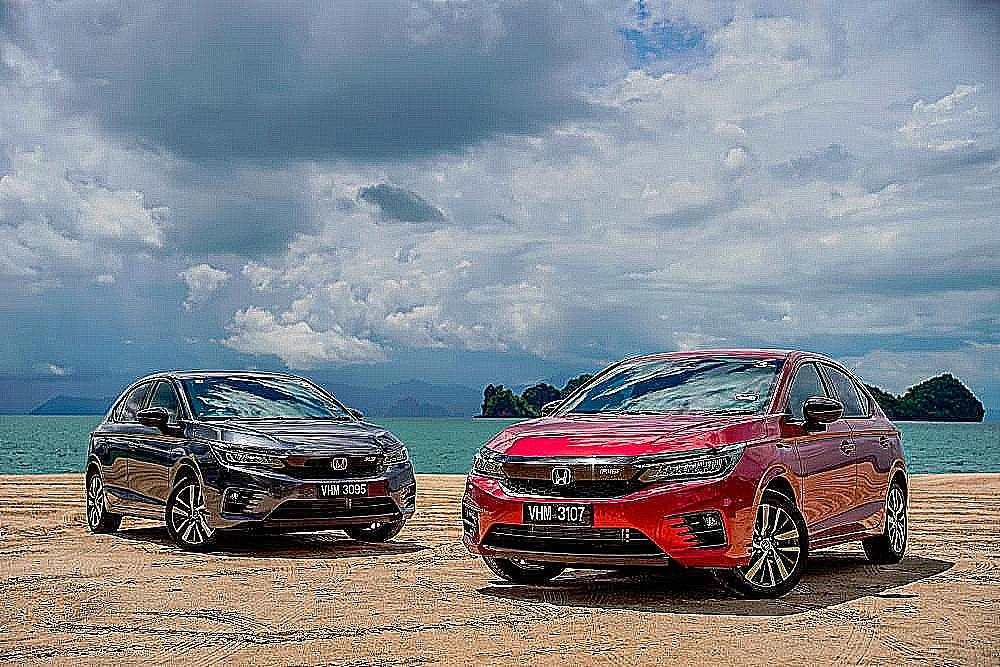Car hood: (484, 415, 770, 461)
Driver-s door - -F-R-: (124, 373, 186, 512)
Fender - -F-L-: (727, 408, 805, 518)
Fender - -F-R-: (167, 412, 217, 499)
Fender - -R-L-: (883, 416, 909, 486)
Fender - -R-R-: (85, 411, 118, 472)
Front bumper: (461, 528, 757, 571), (205, 491, 421, 535)
Headlight - -L-: (194, 419, 396, 455), (633, 441, 747, 492), (381, 445, 410, 471)
Headlight - -R-: (208, 442, 287, 475), (471, 445, 508, 480)
Passenger-s door - -F-L-: (773, 353, 860, 543)
Passenger-s door - -R-L-: (816, 354, 894, 536)
Passenger-s door - -R-R-: (102, 376, 154, 510)
Side bumper - -L-: (808, 511, 888, 566)
Side bumper - -R-: (101, 501, 167, 523)
Side mirror - -L-: (800, 395, 844, 432), (345, 406, 366, 421)
Side mirror - -R-: (136, 407, 182, 433), (540, 399, 565, 418)
